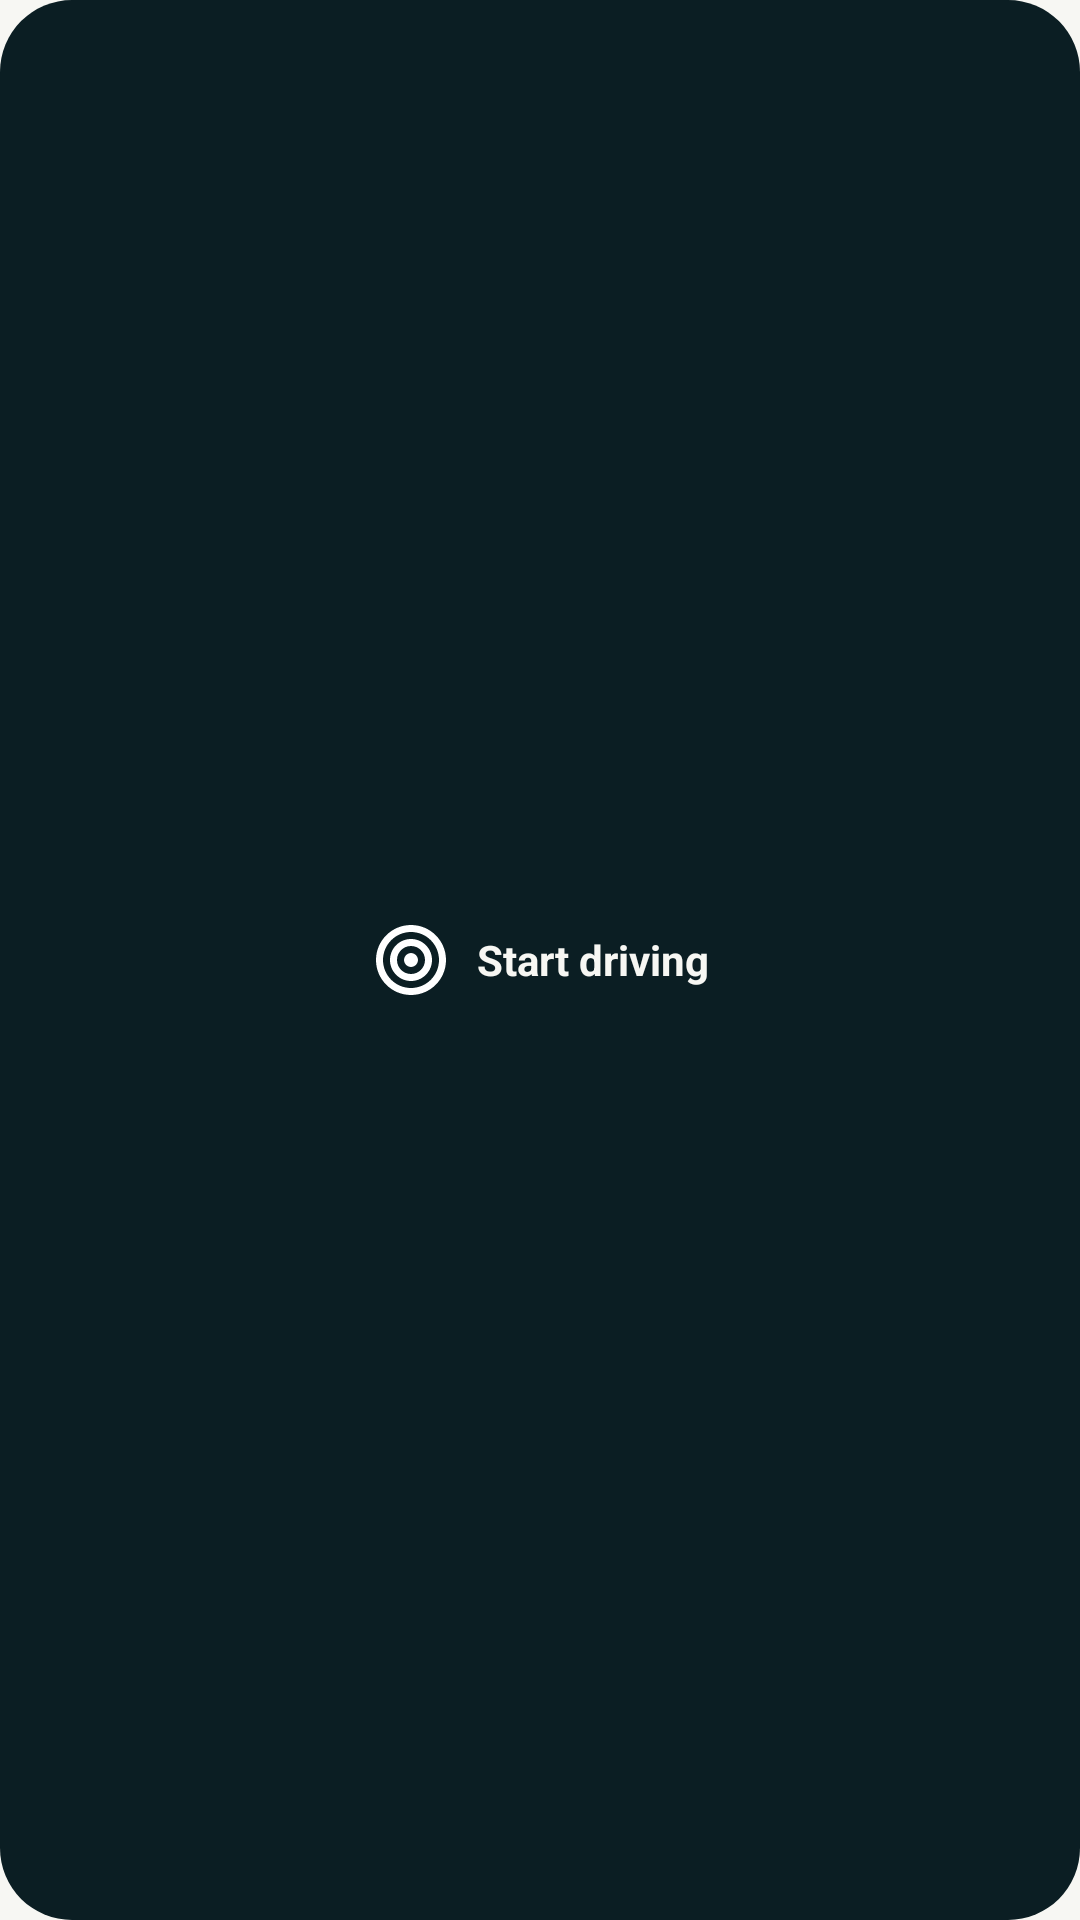

Icons on this 1080*1920 Android screen, each with its box as [left=x1, top=y1, right=x2, bottom=y2]:
radar: [left=376, top=925, right=446, bottom=995]
